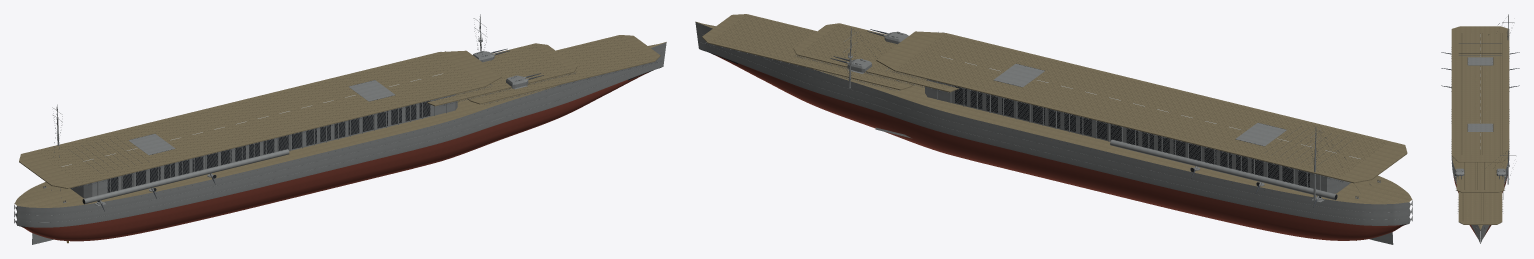
Rendered from kaga_cv.glb.
The picture shows the model from 3 angles, left to right: view 1: azimuth 30°, elevation 25°; view 2: azimuth 150°, elevation 25°; view 3: azimuth 270°, elevation 25°; orthographic projection. The views are drawn at different scales.
Visible parts, largest first — view 1: Kaga (carrier conversion); view 2: Kaga (carrier conversion); view 3: Kaga (carrier conversion).
Part boxes in pixels (x1,y1,x2,y2): Kaga (carrier conversion): (14,14,666,244); Kaga (carrier conversion): (695,14,1412,244); Kaga (carrier conversion): (1441,14,1519,243).
Bounding box in the file's own units: 238 × 40.07 × 40.48.
Materials: 8 (7 with a texture image).
